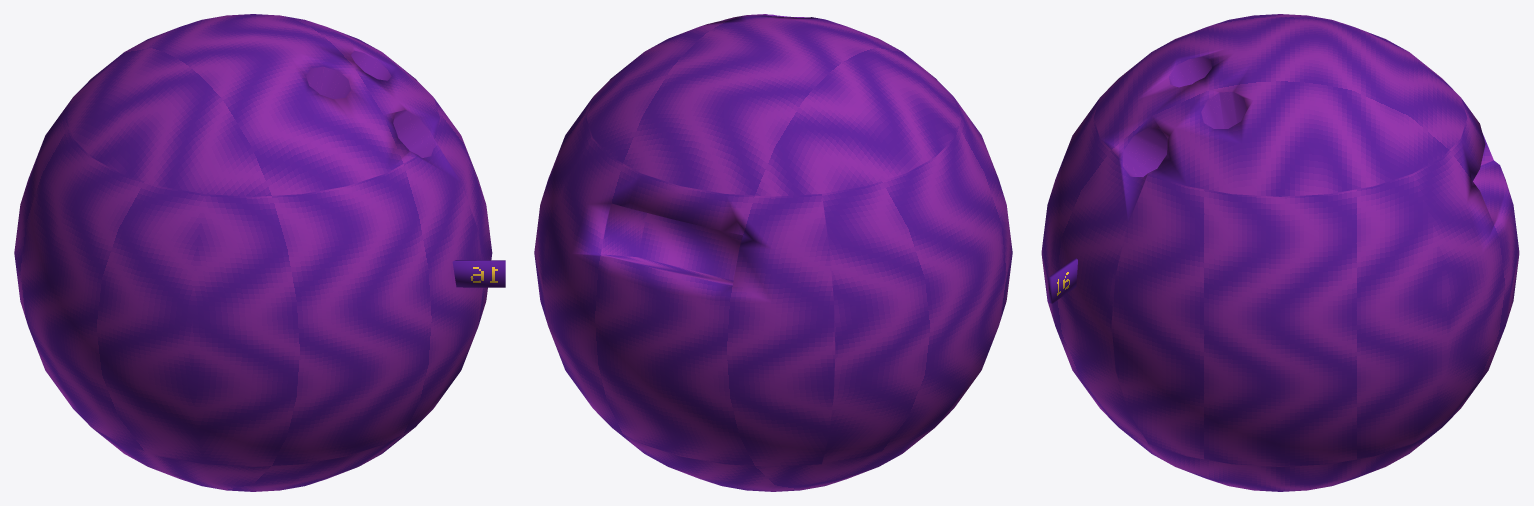
Rendered from x_wreck_bowling.glb.
3 views of the same model, side by side, from view 1: azimuth 30°, elevation 25°; view 2: azimuth 150°, elevation 25°; view 3: azimuth 270°, elevation 25° (orthographic).
Parts seen in each view (by area): view 1: ball_shell; view 2: ball_shell; view 3: ball_shell.
Boxes of the visible parts, x1,y1,x2,y2 form: ball_shell: [14, 14, 505, 491]; ball_shell: [534, 14, 1012, 491]; ball_shell: [1041, 14, 1519, 491].
Size of the model in its own units: 2.2 by 2.2 by 2.2.
Materials: 2 (2 with a texture image).
